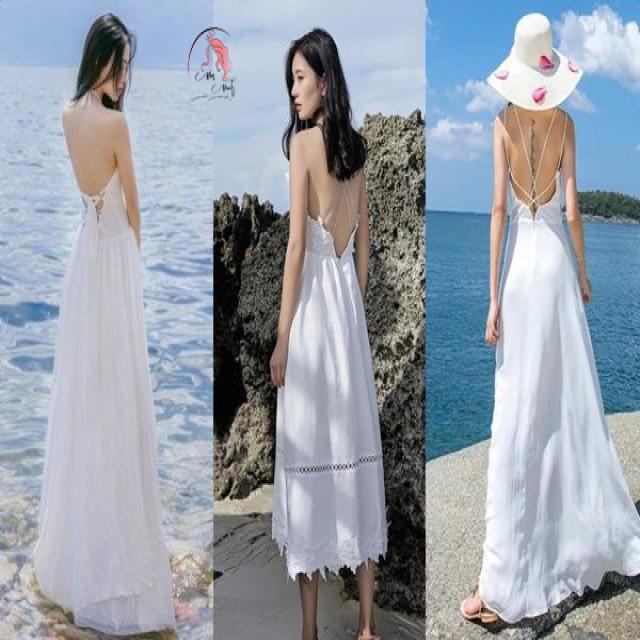clothes: (478, 105, 640, 620), (34, 103, 175, 634), (269, 127, 388, 588)
